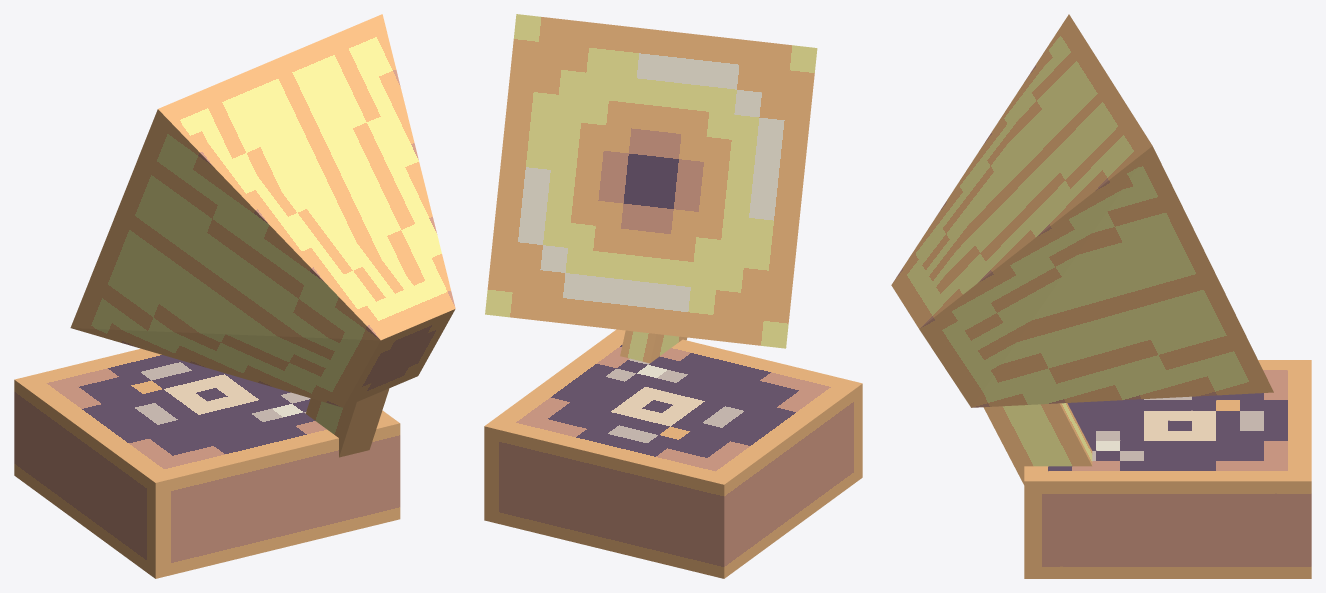
Rendered from phonographe.glb.
3 renders of one model, left to right at view 1: azimuth 30°, elevation 25°; view 2: azimuth 150°, elevation 25°; view 3: azimuth 270°, elevation 25°, orthographic. The views are drawn at different scales.
Parts seen in each view (by area): view 1: Mesh_114; view 2: Mesh_114; view 3: Mesh_114.
Boxes of the visible parts, box(x1,y1,x2,y2) form: Mesh_114: box(14, 14, 455, 578); Mesh_114: box(484, 14, 862, 578); Mesh_114: box(891, 14, 1311, 578).
Bounding box in the file's own units: 2.4 × 3.5 × 2.93.
1 material, 1 textured.
